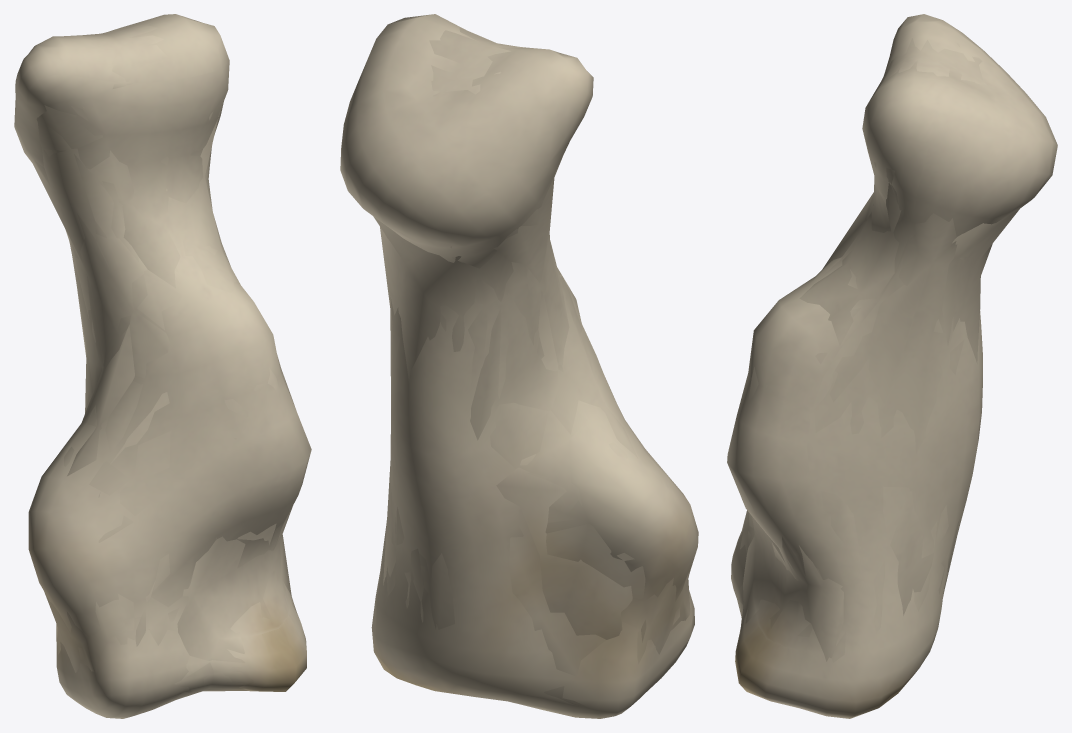
File: L calcaneus.fbx
3 views of the same model, side by side, from view 1: azimuth 30°, elevation 25°; view 2: azimuth 150°, elevation 25°; view 3: azimuth 270°, elevation 25° (orthographic). The views are drawn at different scales.
Visible parts, largest first — view 1: L calcaneus high, L calcaneus, L calcaneus low; view 2: L calcaneus high, L calcaneus, L calcaneus low; view 3: L calcaneus high, L calcaneus low, L calcaneus.
Boxes of the visible parts, <box> form: L calcaneus high: <box>14,14,311,718</box>; L calcaneus: <box>34,22,292,700</box>; L calcaneus low: <box>32,80,291,700</box>; L calcaneus high: <box>340,14,698,718</box>; L calcaneus: <box>379,27,690,710</box>; L calcaneus low: <box>373,92,646,642</box>; L calcaneus high: <box>727,14,1057,718</box>; L calcaneus low: <box>738,72,1019,661</box>; L calcaneus: <box>736,38,983,662</box>.
Size of the model in its own units: 4.39 by 9.94 by 4.8.
